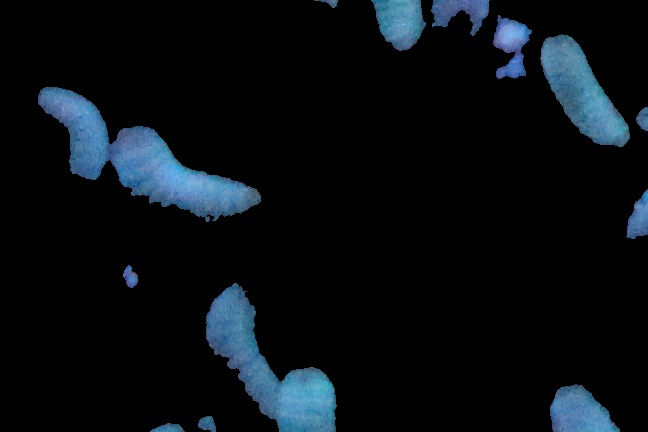larvae: (112, 124, 260, 218), (540, 34, 629, 149), (206, 283, 278, 421), (36, 86, 110, 177), (277, 367, 340, 432), (374, 1, 425, 50)
